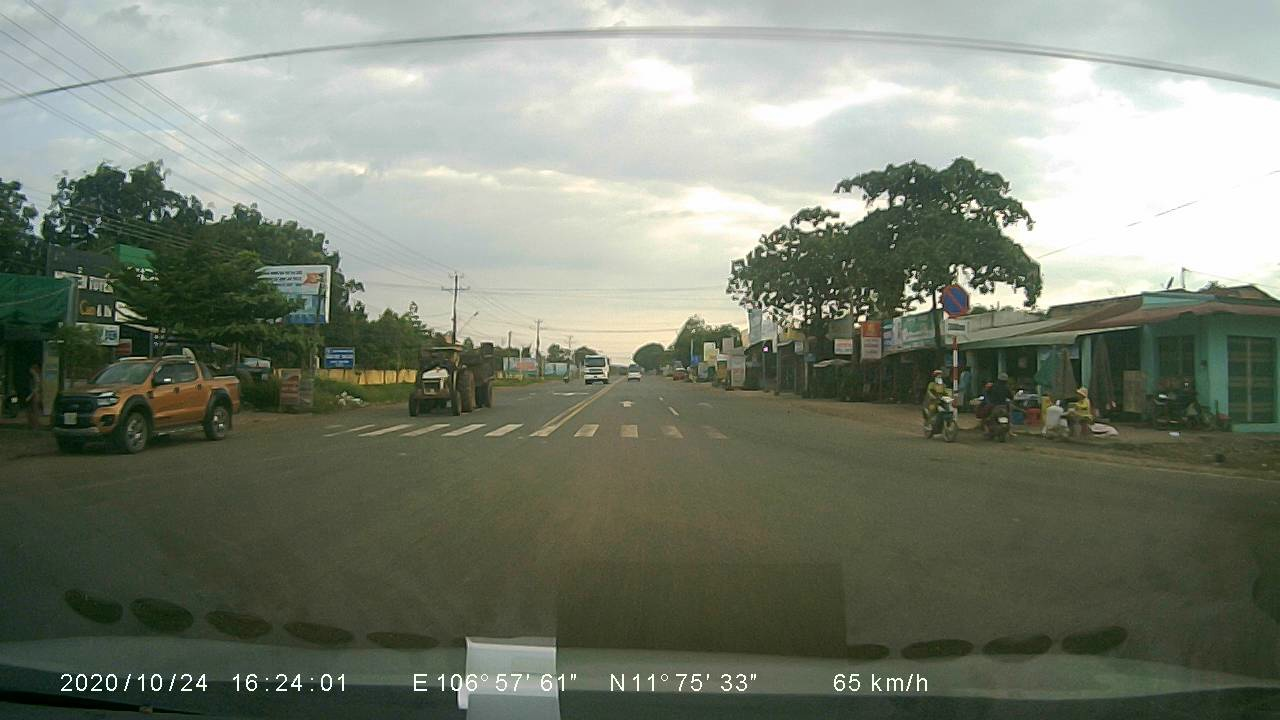Cam do xe: (938, 281, 974, 317)
